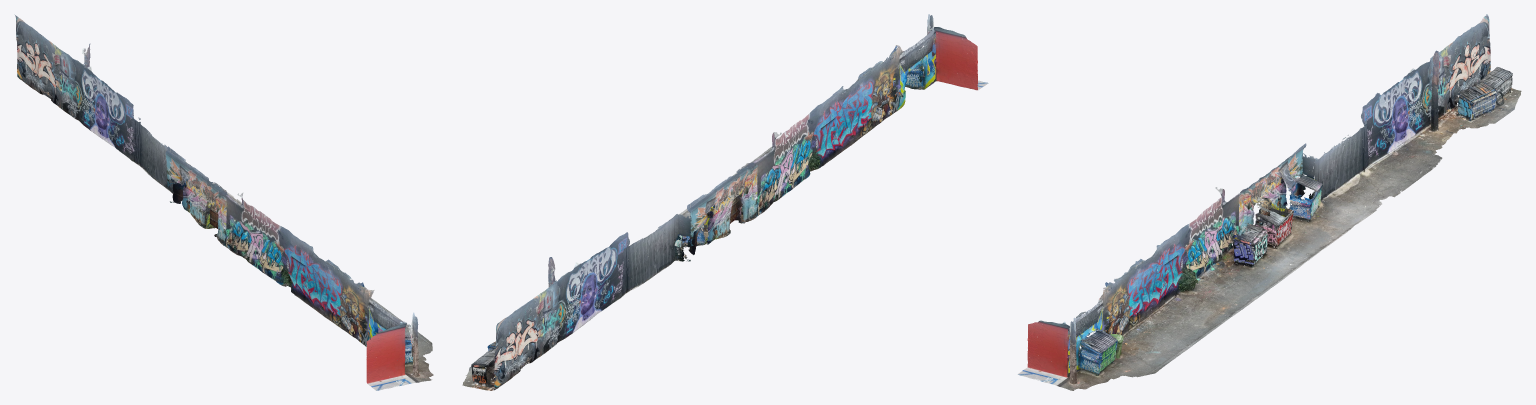
The model's file is la_street_art_alleyway_iphone_12_lidar_scan.glb.
The picture shows the model from 3 angles, left to right: view 1: azimuth 30°, elevation 25°; view 2: azimuth 150°, elevation 25°; view 3: azimuth 330°, elevation 25°; orthographic projection. The views are drawn at different scales.
Visible parts, largest first — view 1: Object_2, Object_5, Object_3, Object_4, Object_6; view 2: Object_2, Object_5, Object_3, Object_4, Object_6; view 3: Object_3, Object_2, Object_4, Object_5, Object_6.
Part boxes in pixels (x1=…): Object_2: x1=15, y1=15, x2=414, y2=368; Object_5: x1=16, y1=31, x2=430, y2=388; Object_3: x1=21, y1=48, x2=432, y2=380; Object_4: x1=17, y1=43, x2=433, y2=390; Object_6: x1=17, y1=43, x2=414, y2=375; Object_2: x1=463, y1=14, x2=967, y2=390; Object_5: x1=467, y1=19, x2=985, y2=386; Object_3: x1=465, y1=15, x2=977, y2=387; Object_4: x1=471, y1=46, x2=988, y2=388; Object_6: x1=474, y1=32, x2=937, y2=387; Object_3: x1=1027, y1=55, x2=1518, y2=384; Object_2: x1=1037, y1=14, x2=1519, y2=368; Object_4: x1=1017, y1=44, x2=1520, y2=390; Object_5: x1=1020, y1=46, x2=1516, y2=381; Object_6: x1=1066, y1=50, x2=1506, y2=380.
Size of the model in its own units: 5.43 by 4.46 by 40.54.
17 materials, 17 textured.
